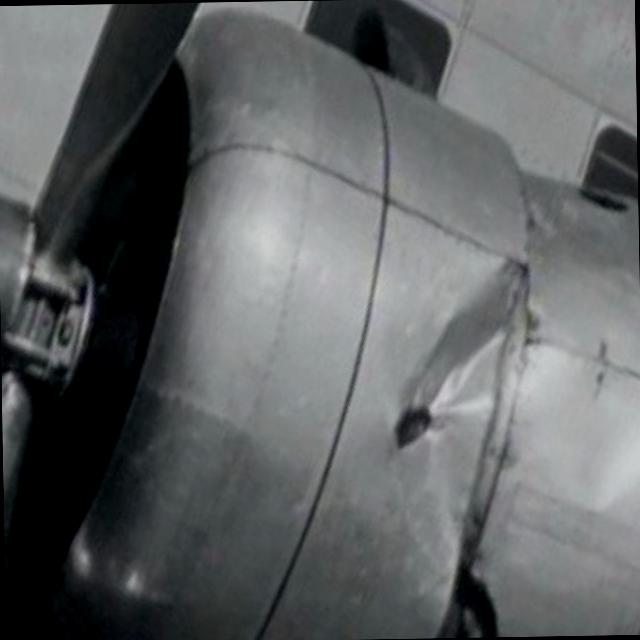dent: (393, 266, 534, 439)
